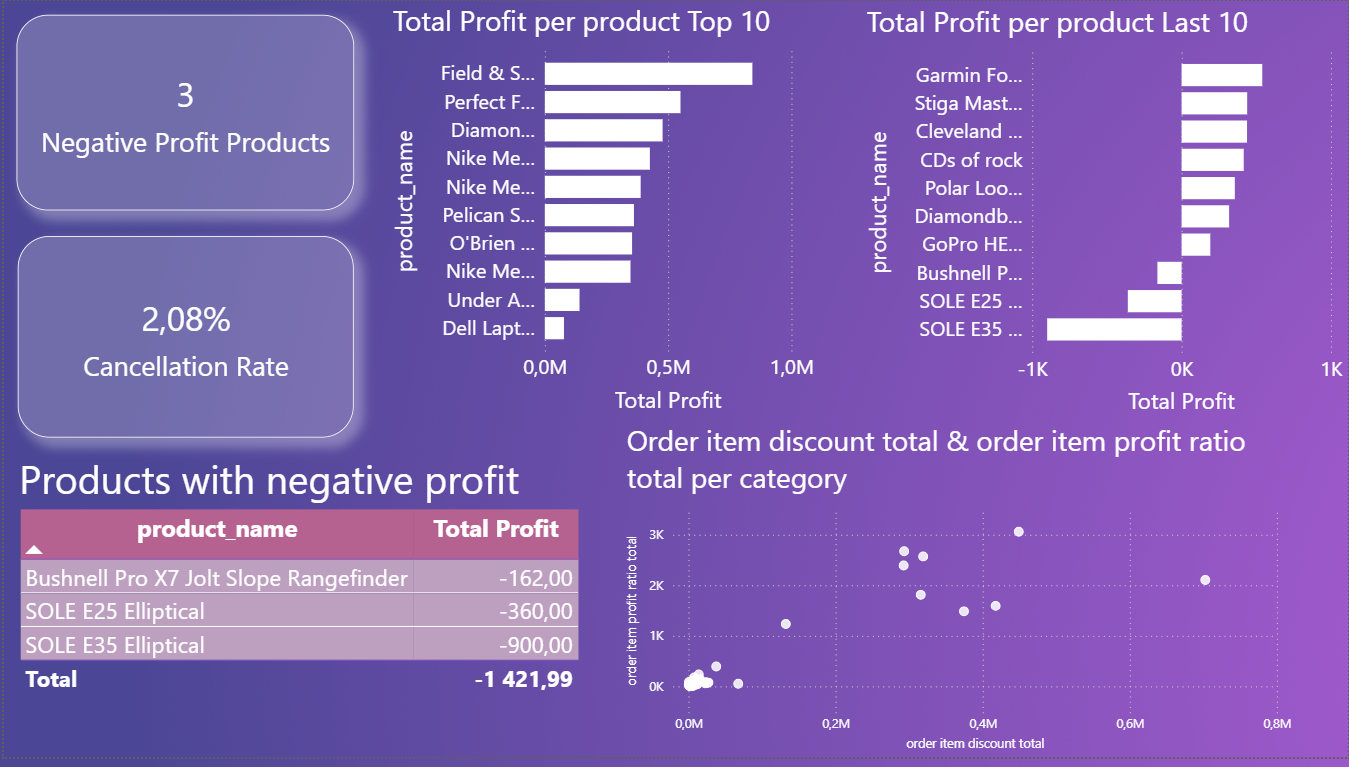

What the dashboard file says about the page in this screenshot:
{"tool":"powerbi","page":{"name":"Product Profitability","canvas":[1280,720],"ordinal":3},"visuals":[{"type":"card","fields":{"Values":["public product.Negative Profit Products"]},"box":[11.7,13.3,321.7,186.7],"z":0},{"type":"card","fields":{"Values":["public order_table.Cancellation Rate"]},"box":[13.3,223.3,320,191.7],"z":1000},{"type":"clusteredBarChart","title":"Total Profit per product Top 10","fields":{"Category":["public product.product_name"],"Y":["public order_details.Total Profit"]},"box":[365,0,411.7,398.3],"z":2000},{"type":"clusteredBarChart","title":"Total Profit per product Last 10","fields":{"Category":["public product.product_name"],"Y":["public order_details.Total Profit"]},"box":[816.7,1.7,463.3,398.3],"z":3000},{"type":"scatterChart","title":"Order item discount total & order item profit ratio total per category","fields":{"X":["Sum(public order_details.order_item_discount)"],"Y":["Sum(public order_details.order_item_profit_ratio)"],"Category":["public category.category_name"]},"box":[588.3,400,643.3,320],"z":4000},{"type":"tableEx","title":"Products with negative profit","fields":{"Values":["public product.product_name","public order_details.Total Profit"]},"box":[10,430,578.3,260],"z":5000}]}

Visuals, with their boxes in screenshot pixels (x1, y1, x2, y2), scaled from the page's 1280x720 canvas onto the 1349x767 screenshot:
card - public product.Negative Profit Products: <box>12,14,351,213</box>
card - public order_table.Cancellation Rate: <box>14,238,351,442</box>
"Total Profit per product Top 10" clusteredBarChart: <box>385,0,819,424</box>
"Total Profit per product Last 10" clusteredBarChart: <box>861,2,1348,426</box>
"Order item discount total & order item profit ratio total per category" scatterChart: <box>620,426,1298,766</box>
"Products with negative profit" tableEx: <box>11,458,620,735</box>
